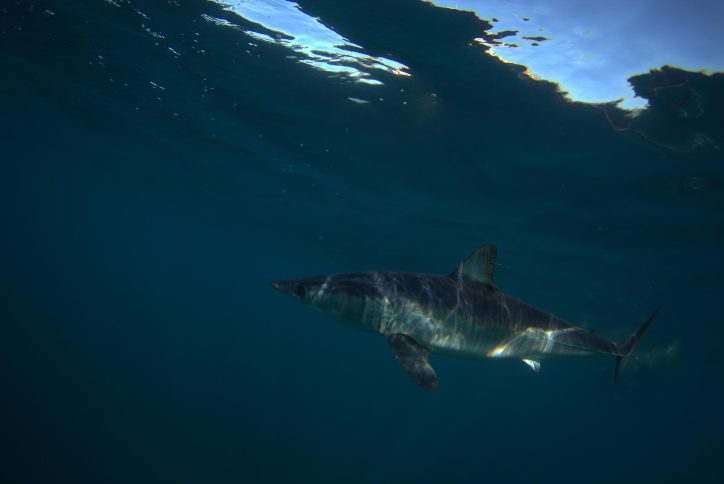Mako: (238, 238, 674, 406)
